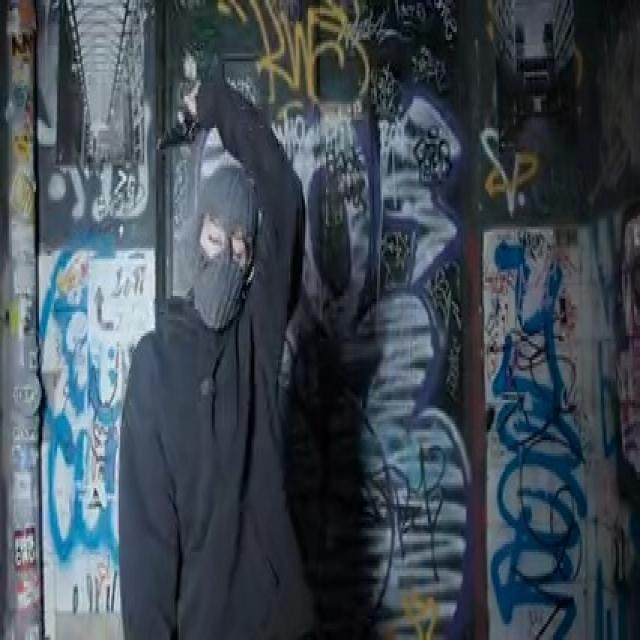Gun_Holder: (143, 76, 230, 168)
Person: (117, 141, 317, 640)
